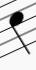HC: (5, 1, 34, 56)
